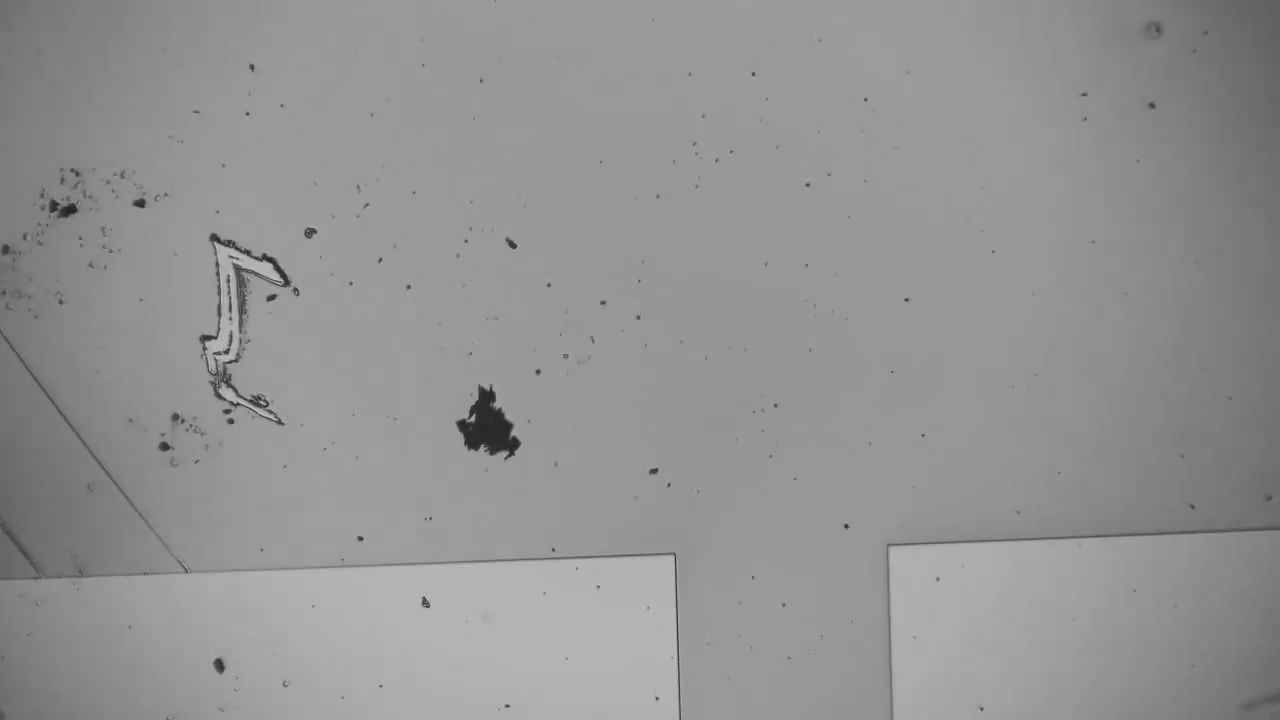scratch: (0, 325, 193, 575)
